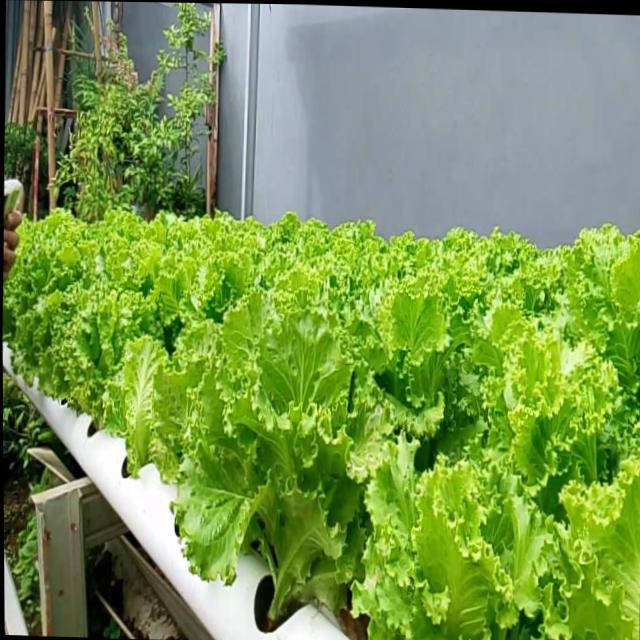Mature: (2, 207, 640, 640), (162, 306, 382, 638), (40, 285, 147, 449)
